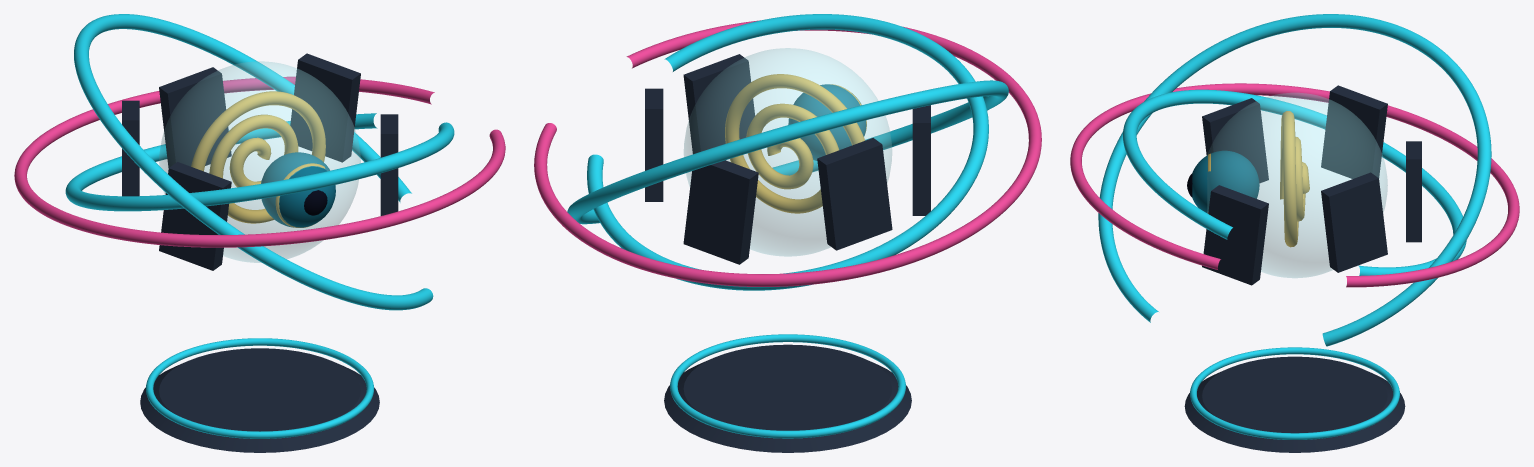
File: sup-companion.glb
3 renders of one model, left to right at view 1: azimuth 30°, elevation 25°; view 2: azimuth 150°, elevation 25°; view 3: azimuth 270°, elevation 25°, orthographic. The views are drawn at different scales.
Visible parts, largest first — view 1: core, pad, halo-ring-mid, halo-ring-outer, halo-ring-inner, thought-spiral, shell-plate-2, shell-plate-3, pad-ring, shell-plate-5, iris, shell-plate-1 (+1 smaller); view 2: core, pad, halo-ring-outer, halo-ring-inner, halo-ring-mid, thought-spiral, shell-plate-4, shell-plate-3, shell-plate-1, pad-ring, shell-plate-5, shell-plate-2 (+1 smaller); view 3: core, pad, halo-ring-mid, halo-ring-outer, halo-ring-inner, shell-plate-2, shell-plate-4, shell-plate-1, pad-ring, shell-plate-5, thought-spiral, iris (+1 smaller).
Part boxes in pixels (left/top/right/bottom): core: left=159, top=61, right=360, bottom=262; pad: left=140, top=348, right=379, bottom=452; halo-ring-mid: left=74, top=14, right=433, bottom=310; halo-ring-outer: left=14, top=76, right=505, bottom=247; halo-ring-inner: left=65, top=113, right=454, bottom=211; thought-spiral: left=191, top=91, right=325, bottom=223; shell-plate-2: left=290, top=53, right=360, bottom=162; shell-plate-3: left=159, top=67, right=231, bottom=167; pad-ring: left=146, top=338, right=374, bottom=438; shell-plate-5: left=159, top=162, right=231, bottom=270; iris: left=261, top=152, right=335, bottom=227; shell-plate-1: left=380, top=114, right=398, bottom=215; core: left=684, top=48, right=891, bottom=256; pad: left=664, top=344, right=911, bottom=452; halo-ring-outer: left=534, top=20, right=1041, bottom=286; halo-ring-inner: left=587, top=14, right=988, bottom=290; halo-ring-mid: left=567, top=80, right=1008, bottom=224; thought-spiral: left=725, top=74, right=864, bottom=213; shell-plate-4: left=817, top=138, right=892, bottom=250; shell-plate-3: left=683, top=160, right=758, bottom=264; shell-plate-1: left=683, top=54, right=754, bottom=153; pad-ring: left=670, top=334, right=905, bottom=438; shell-plate-5: left=912, top=105, right=930, bottom=215; shell-plate-2: left=645, top=88, right=663, bottom=201; core: left=1207, top=93, right=1387, bottom=277; pad: left=1184, top=356, right=1405, bottom=452; halo-ring-mid: left=1098, top=14, right=1491, bottom=346; halo-ring-outer: left=1070, top=83, right=1519, bottom=287; halo-ring-inner: left=1122, top=89, right=1466, bottom=275; shell-plate-2: left=1321, top=172, right=1387, bottom=272; shell-plate-4: left=1321, top=85, right=1387, bottom=178; shell-plate-1: left=1202, top=185, right=1268, bottom=285; pad-ring: left=1190, top=347, right=1399, bottom=439; shell-plate-5: left=1202, top=98, right=1268, bottom=183; thought-spiral: left=1280, top=111, right=1309, bottom=247; iris: left=1192, top=150, right=1259, bottom=213.
Bounding box in the file's own units: 0.7694 × 0.6202 × 0.7743.
